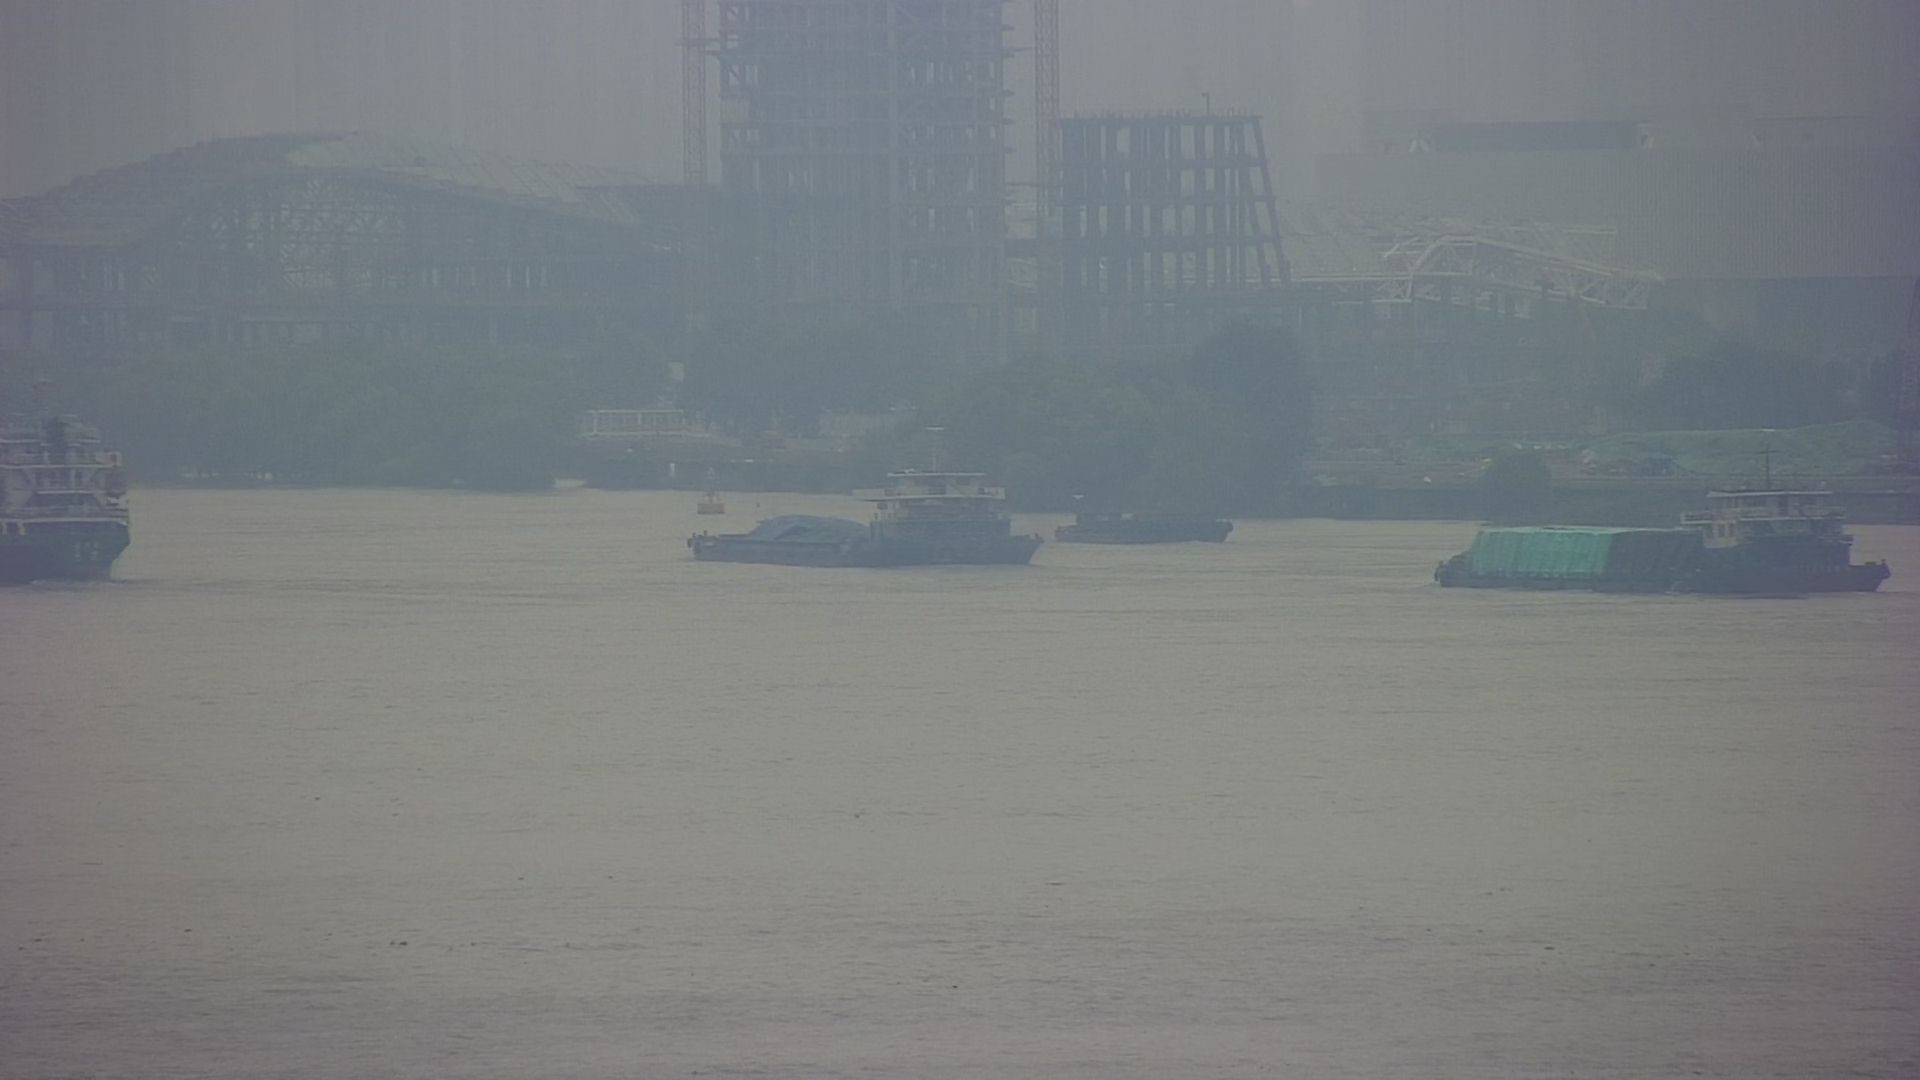boat: (1054, 480, 1251, 553)
buoy: (687, 455, 744, 520)
ship: (1420, 421, 1902, 597), (682, 378, 1060, 576), (1, 371, 165, 591)
